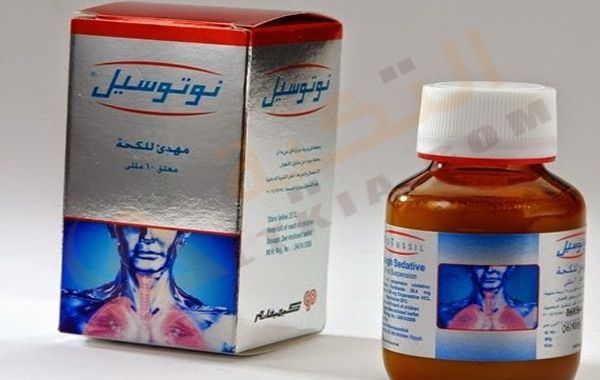Medicine: (51, 3, 342, 364), (367, 70, 591, 380)
